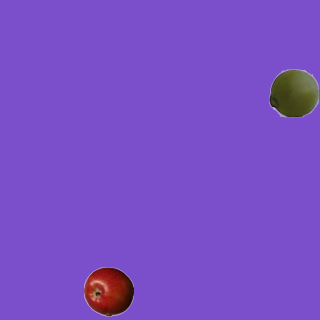Apple Braeburn: (83, 266, 133, 316)
Grape White 4: (268, 67, 318, 117)
